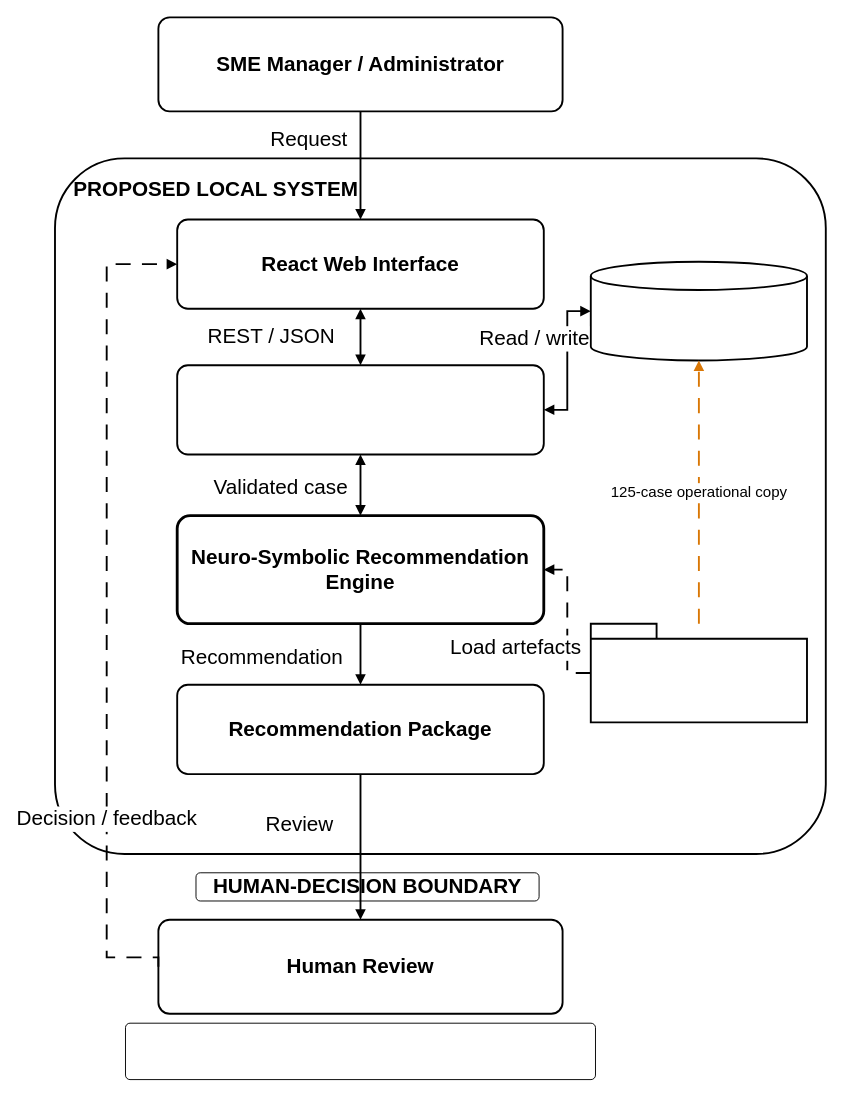
The diagram is 842 pixels wide and 1096 high, and some of its shapes have lost their labels. The shapes that lost their labels are listed below. From the top down, each one's centre as x and y in pixels, then its label:
At point (698, 310): "MySQL Operational Store".
At point (360, 409): "FastAPI Service Layer".
At point (698, 672): "Versioned Research Artefacts".
At point (360, 1051): "Decision support only • No automatic campaign execution".
